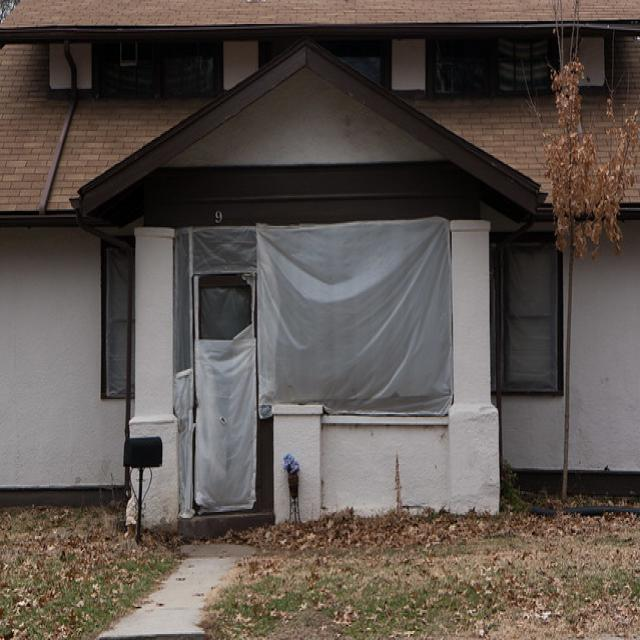Normal_building: (73, 39, 544, 533)
